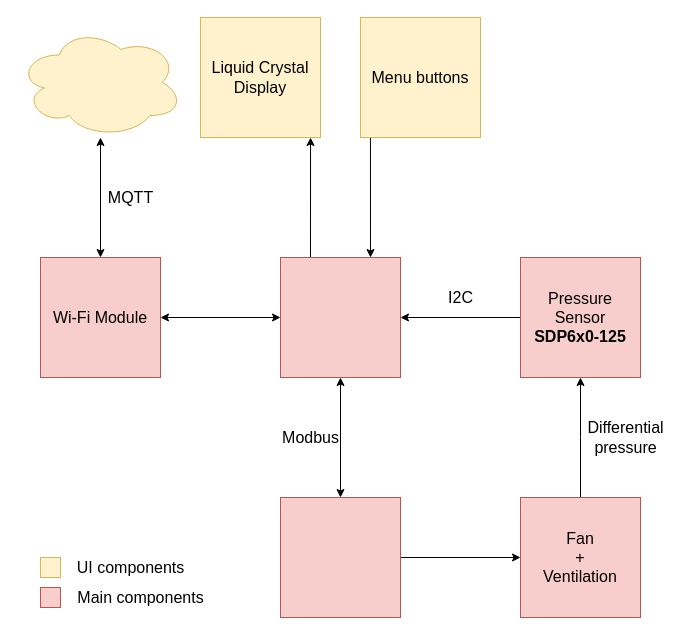
Image size: 687x635. Some labels were removed from this diagram. Here are the shapes that lost their labels. From the top down, the centre of each, then its label:
At pixel 100 82: "Cloud".
At pixel 340 317: "MCU LPC1549".
At pixel 340 557: "ABB Drive Simulator Arduino UNO".
